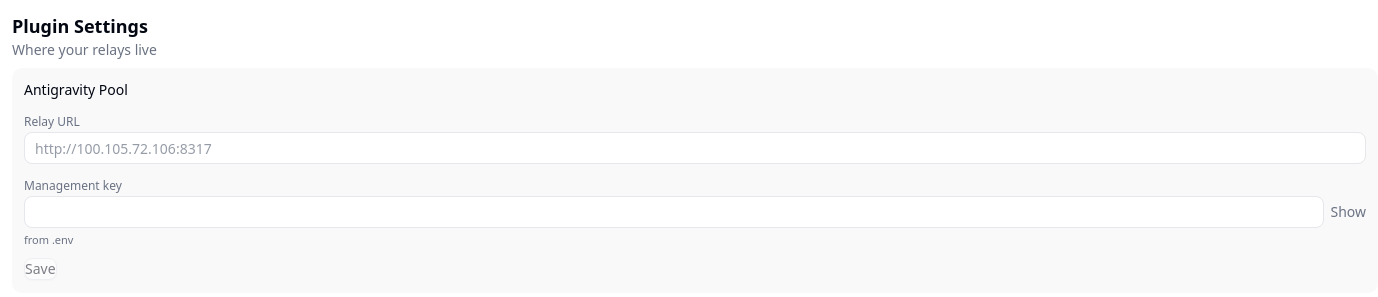
Scenario: PluginSettingsSection › saves on Enter and surfaces a failed save
Type "http://relay:8317" into the field labelled "Relay URL" at {"x": 695, "y": 148}, box top-left (24, 132), bottom-right (1366, 164)
Then press Enter
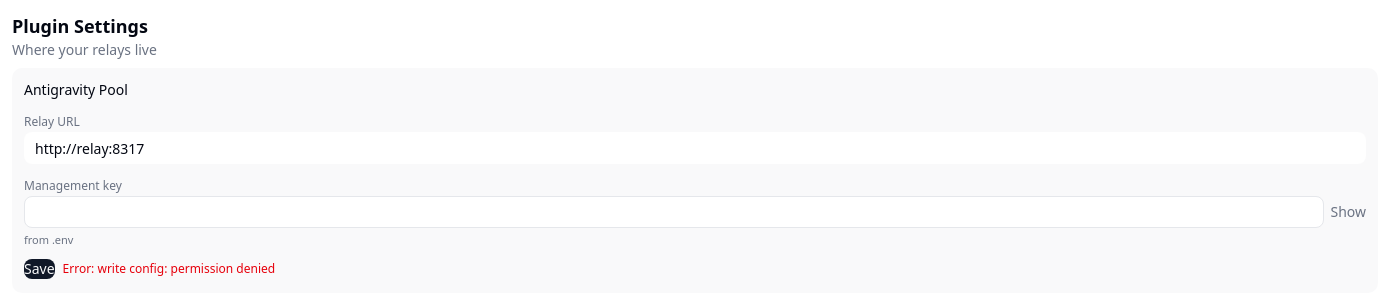
Expected: the text "Error: write config: permission denied" is shown, top-left (63, 260), bottom-right (275, 276)
